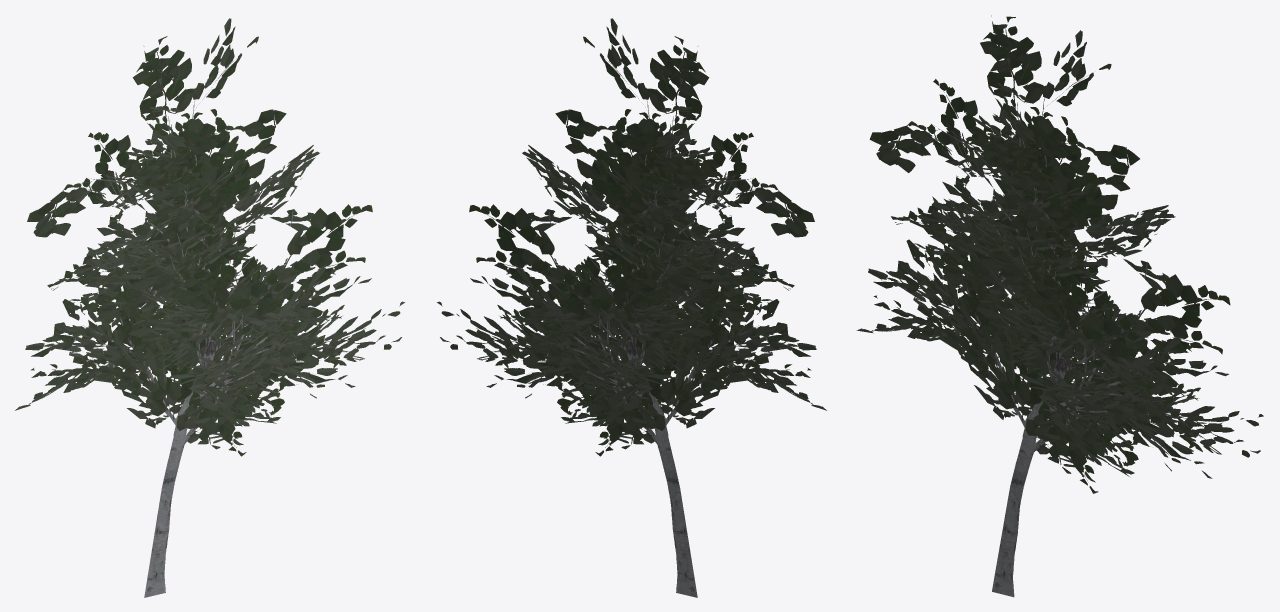
File: SM_Birch_02_Billboard.FBX
3 views of the same model, side by side, from view 1: azimuth 30°, elevation 25°; view 2: azimuth 150°, elevation 25°; view 3: azimuth 330°, elevation 25° (orthographic). The views are drawn at different scales.
Parts seen in each view (by area): view 1: SM_Birch_02_Billboard_LOD0; view 2: SM_Birch_02_Billboard_LOD0; view 3: SM_Birch_02_Billboard_LOD0.
Boxes of the visible parts, x1,y1,x2,y2 form: SM_Birch_02_Billboard_LOD0: (15,18,404,597); SM_Birch_02_Billboard_LOD0: (437,18,826,597); SM_Birch_02_Billboard_LOD0: (856,15,1263,597).
Size of the model in its own units: 1025 by 6.14e-05 by 1404.
